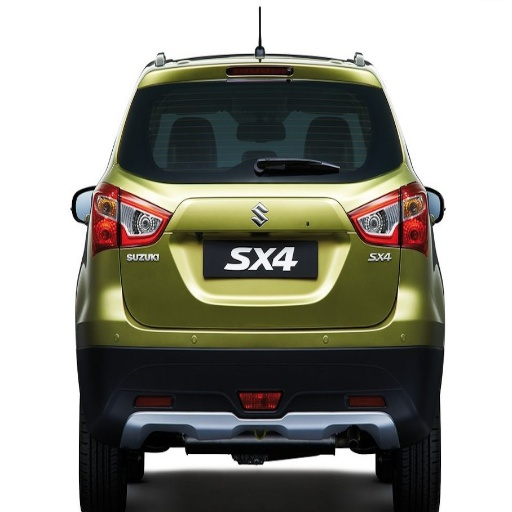back_bumper: (75, 241, 442, 448)
tailgate: (195, 242, 334, 302), (330, 170, 396, 238)
trunk: (118, 175, 411, 344)
